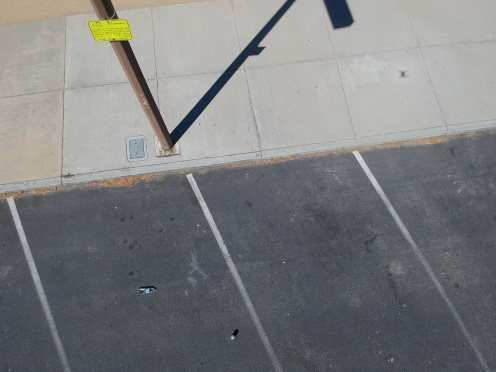bottle: (134, 283, 161, 297)
can: (229, 332, 238, 342)
